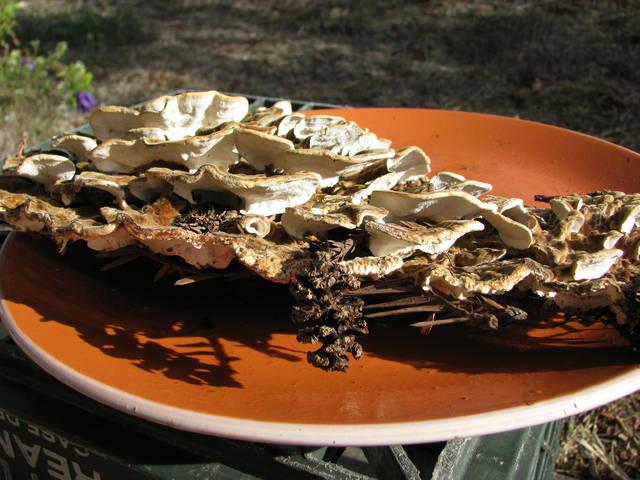poisonous_mushroom: (1, 88, 638, 370)
